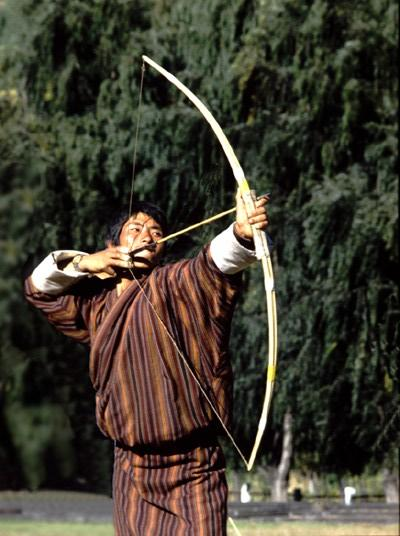person: (23, 185, 270, 536)
